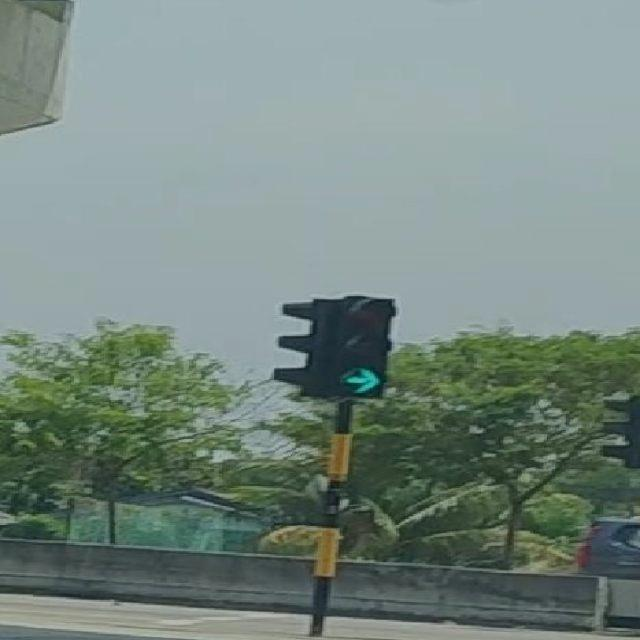Green: (334, 298, 394, 400)
